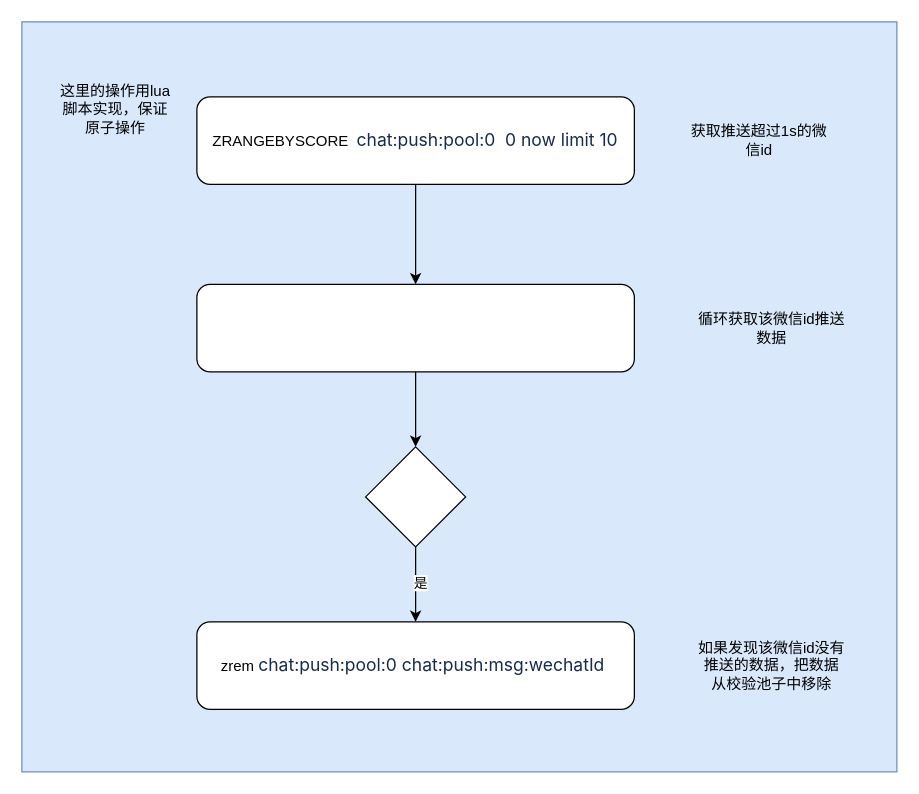
This 919x794 diagram has some shape labels left out. The box of each missing label's shape, as (x1, y1, x2, y2) in pixels:
lpop chat:push:msg:wechatId: (196, 283, 634, 372)
数据是否为空: (364, 446, 466, 547)
